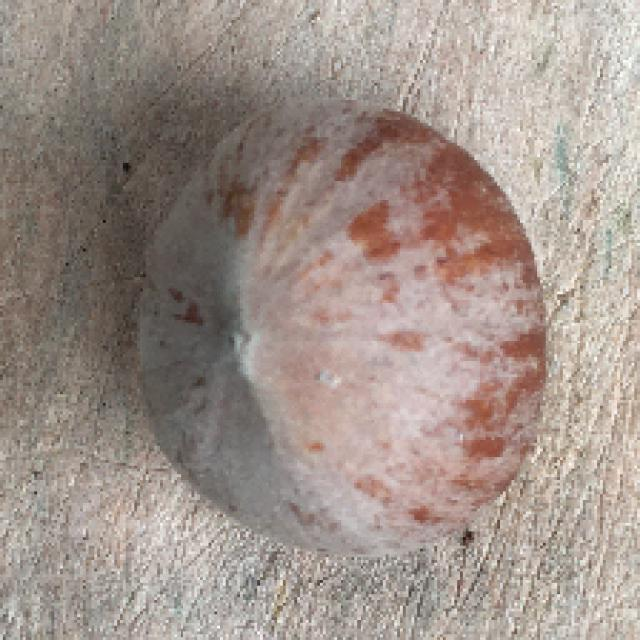qualityHazelnut: (139, 86, 549, 566)
